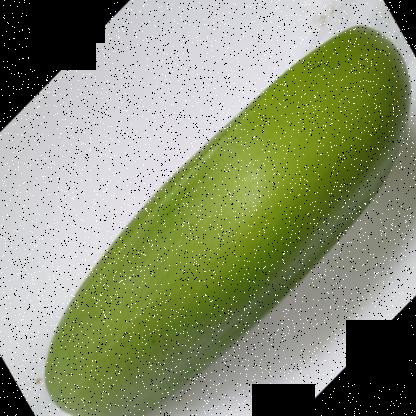freshunripe: (37, 14, 415, 416)
